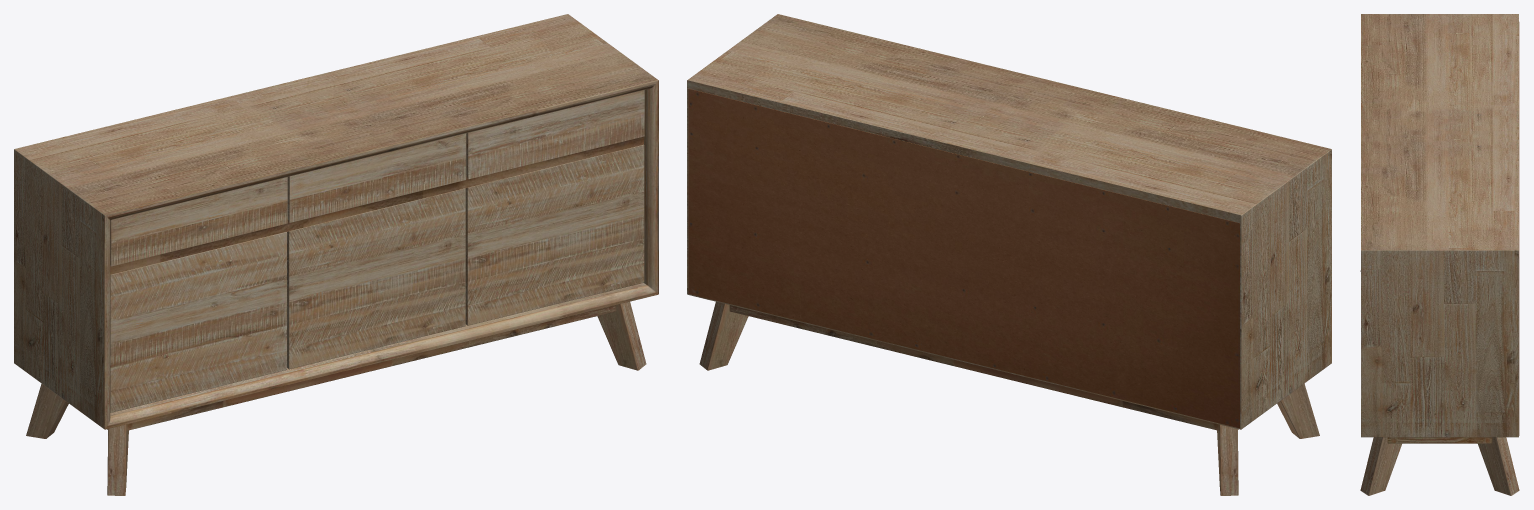
File: cabinet_B07HSLVMP2.glb
The picture shows the model from 3 angles, left to right: view 1: azimuth 30°, elevation 25°; view 2: azimuth 150°, elevation 25°; view 3: azimuth 270°, elevation 25°; orthographic projection. The views are drawn at different scales.
Visible parts, largest first — view 1: RootNode; view 2: RootNode; view 3: RootNode.
Part boxes in pixels (bbox=[...]): RootNode: bbox=[14, 14, 658, 495]; RootNode: bbox=[687, 14, 1331, 495]; RootNode: bbox=[1360, 14, 1519, 495].
Size of the model in its own units: 1.6 by 0.7881 by 0.4554.
Materials: 1 (1 with a texture image).
